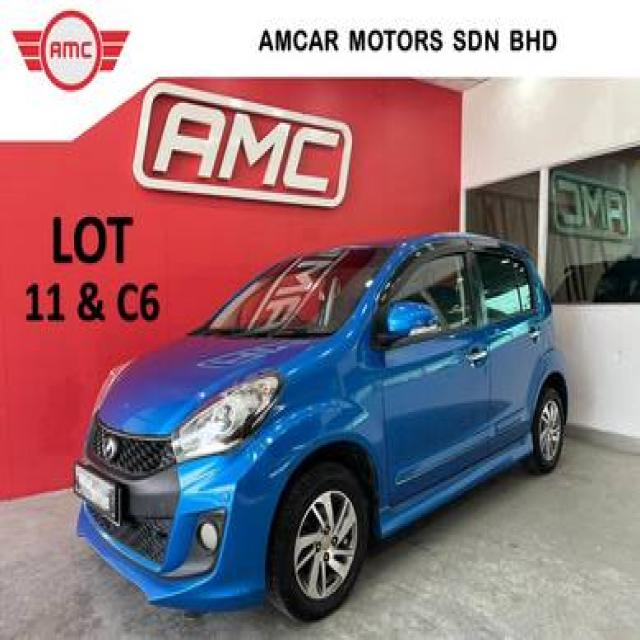PeroduaMyvi: (72, 228, 570, 622)
